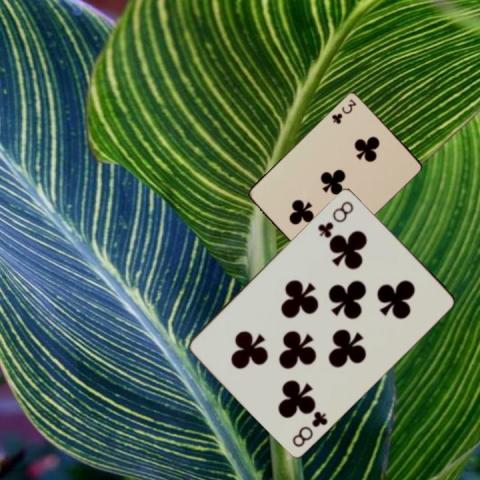3c: (329, 96, 357, 125)
8c: (315, 197, 355, 239), (290, 407, 330, 449)
